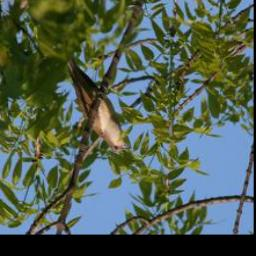Cuckoo: (64, 55, 129, 153)
